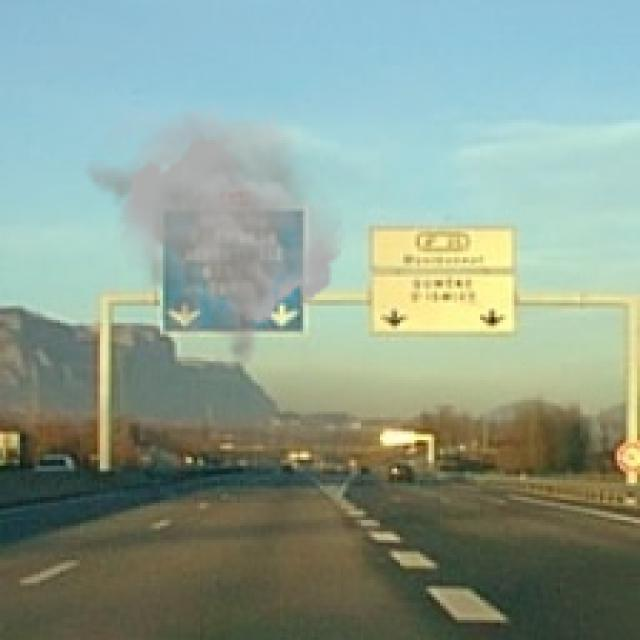Smoke: (83, 100, 346, 377)
